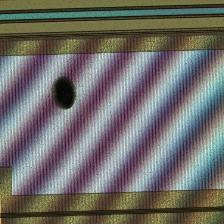PARTICLE: (45, 74, 85, 114)
